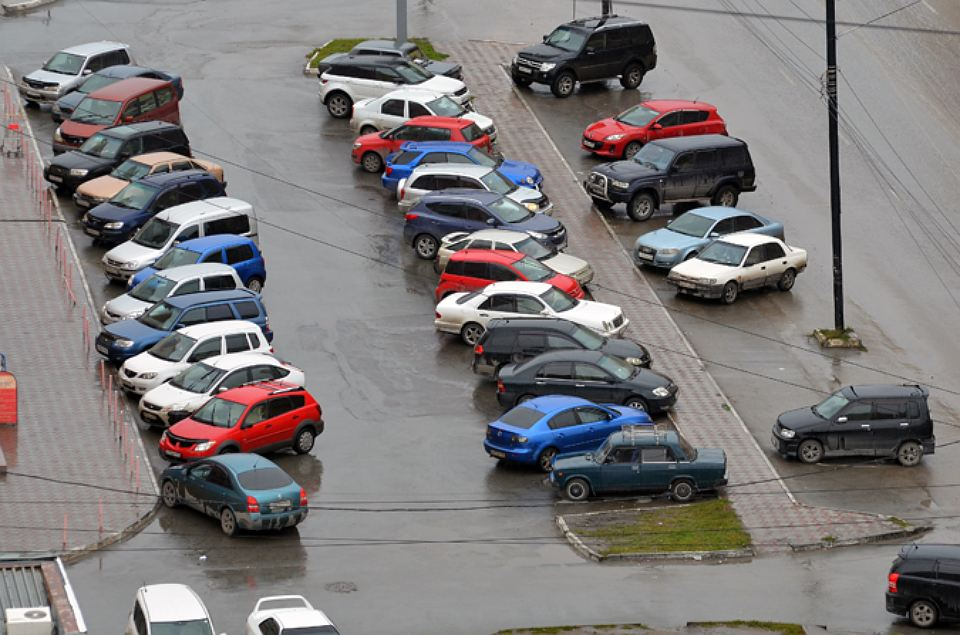Car: (582, 134, 756, 222), (95, 287, 272, 365), (548, 426, 727, 502), (158, 381, 324, 462), (103, 197, 259, 283), (773, 384, 935, 466), (138, 351, 306, 429), (483, 395, 653, 471), (434, 280, 630, 345), (160, 452, 309, 536), (496, 349, 679, 416), (511, 15, 657, 98), (118, 320, 274, 397), (404, 188, 568, 261), (473, 316, 654, 378), (81, 169, 226, 246), (43, 119, 193, 193), (668, 232, 808, 304), (52, 76, 181, 154), (318, 55, 471, 120), (634, 206, 785, 271), (435, 229, 594, 289), (74, 151, 228, 210), (581, 99, 729, 159), (101, 263, 244, 325), (350, 85, 497, 144), (396, 162, 553, 215), (381, 140, 544, 191), (351, 115, 493, 173), (128, 234, 268, 292), (51, 64, 184, 122), (19, 41, 134, 108), (435, 248, 586, 299), (885, 543, 960, 629), (317, 40, 464, 80), (125, 583, 228, 635), (245, 594, 342, 635)
